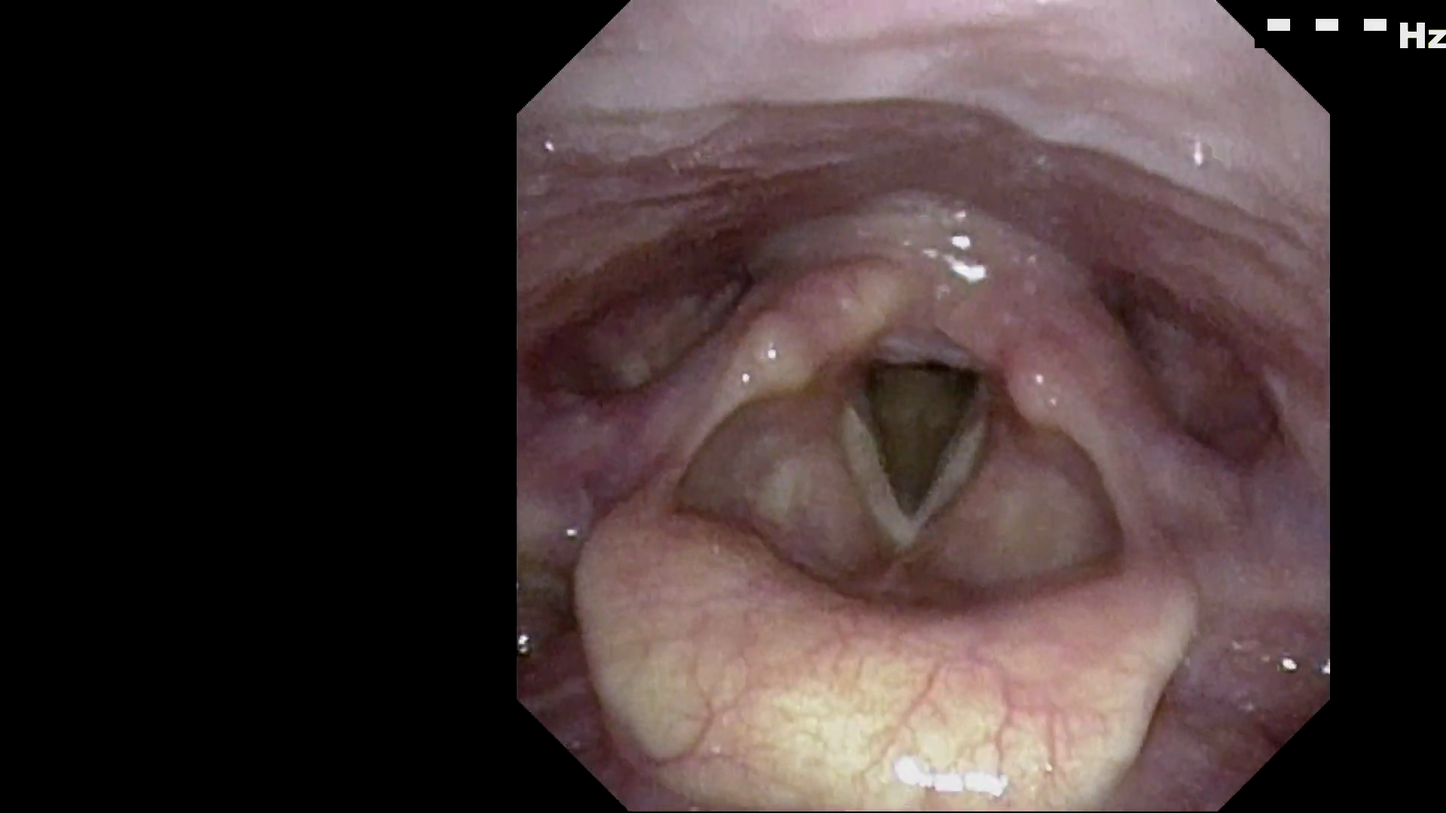epiglottis: (576, 503, 1209, 750)
trachea: (839, 329, 1017, 554)
